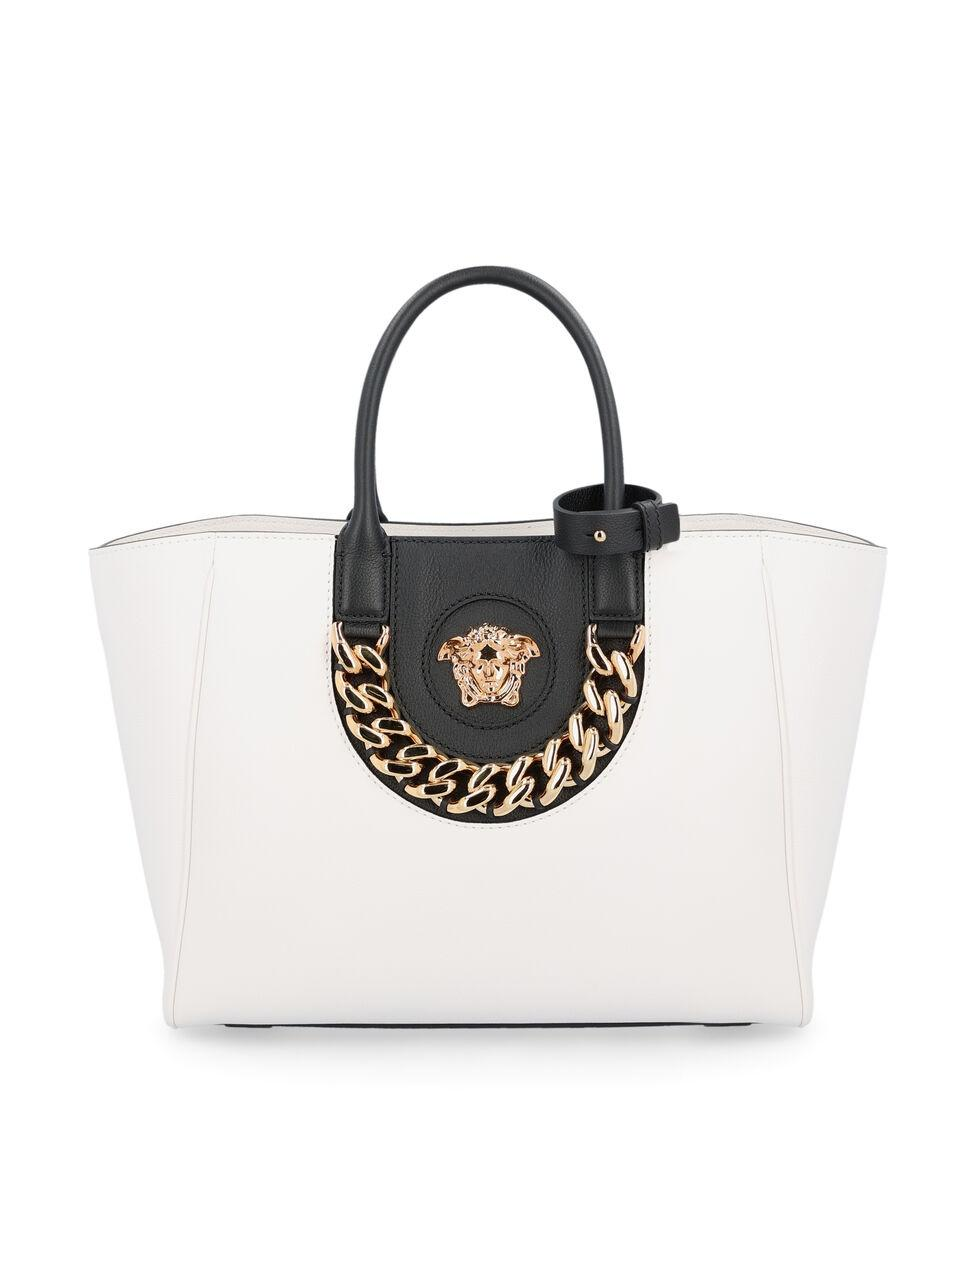VERSACE: (421, 591, 557, 730)
